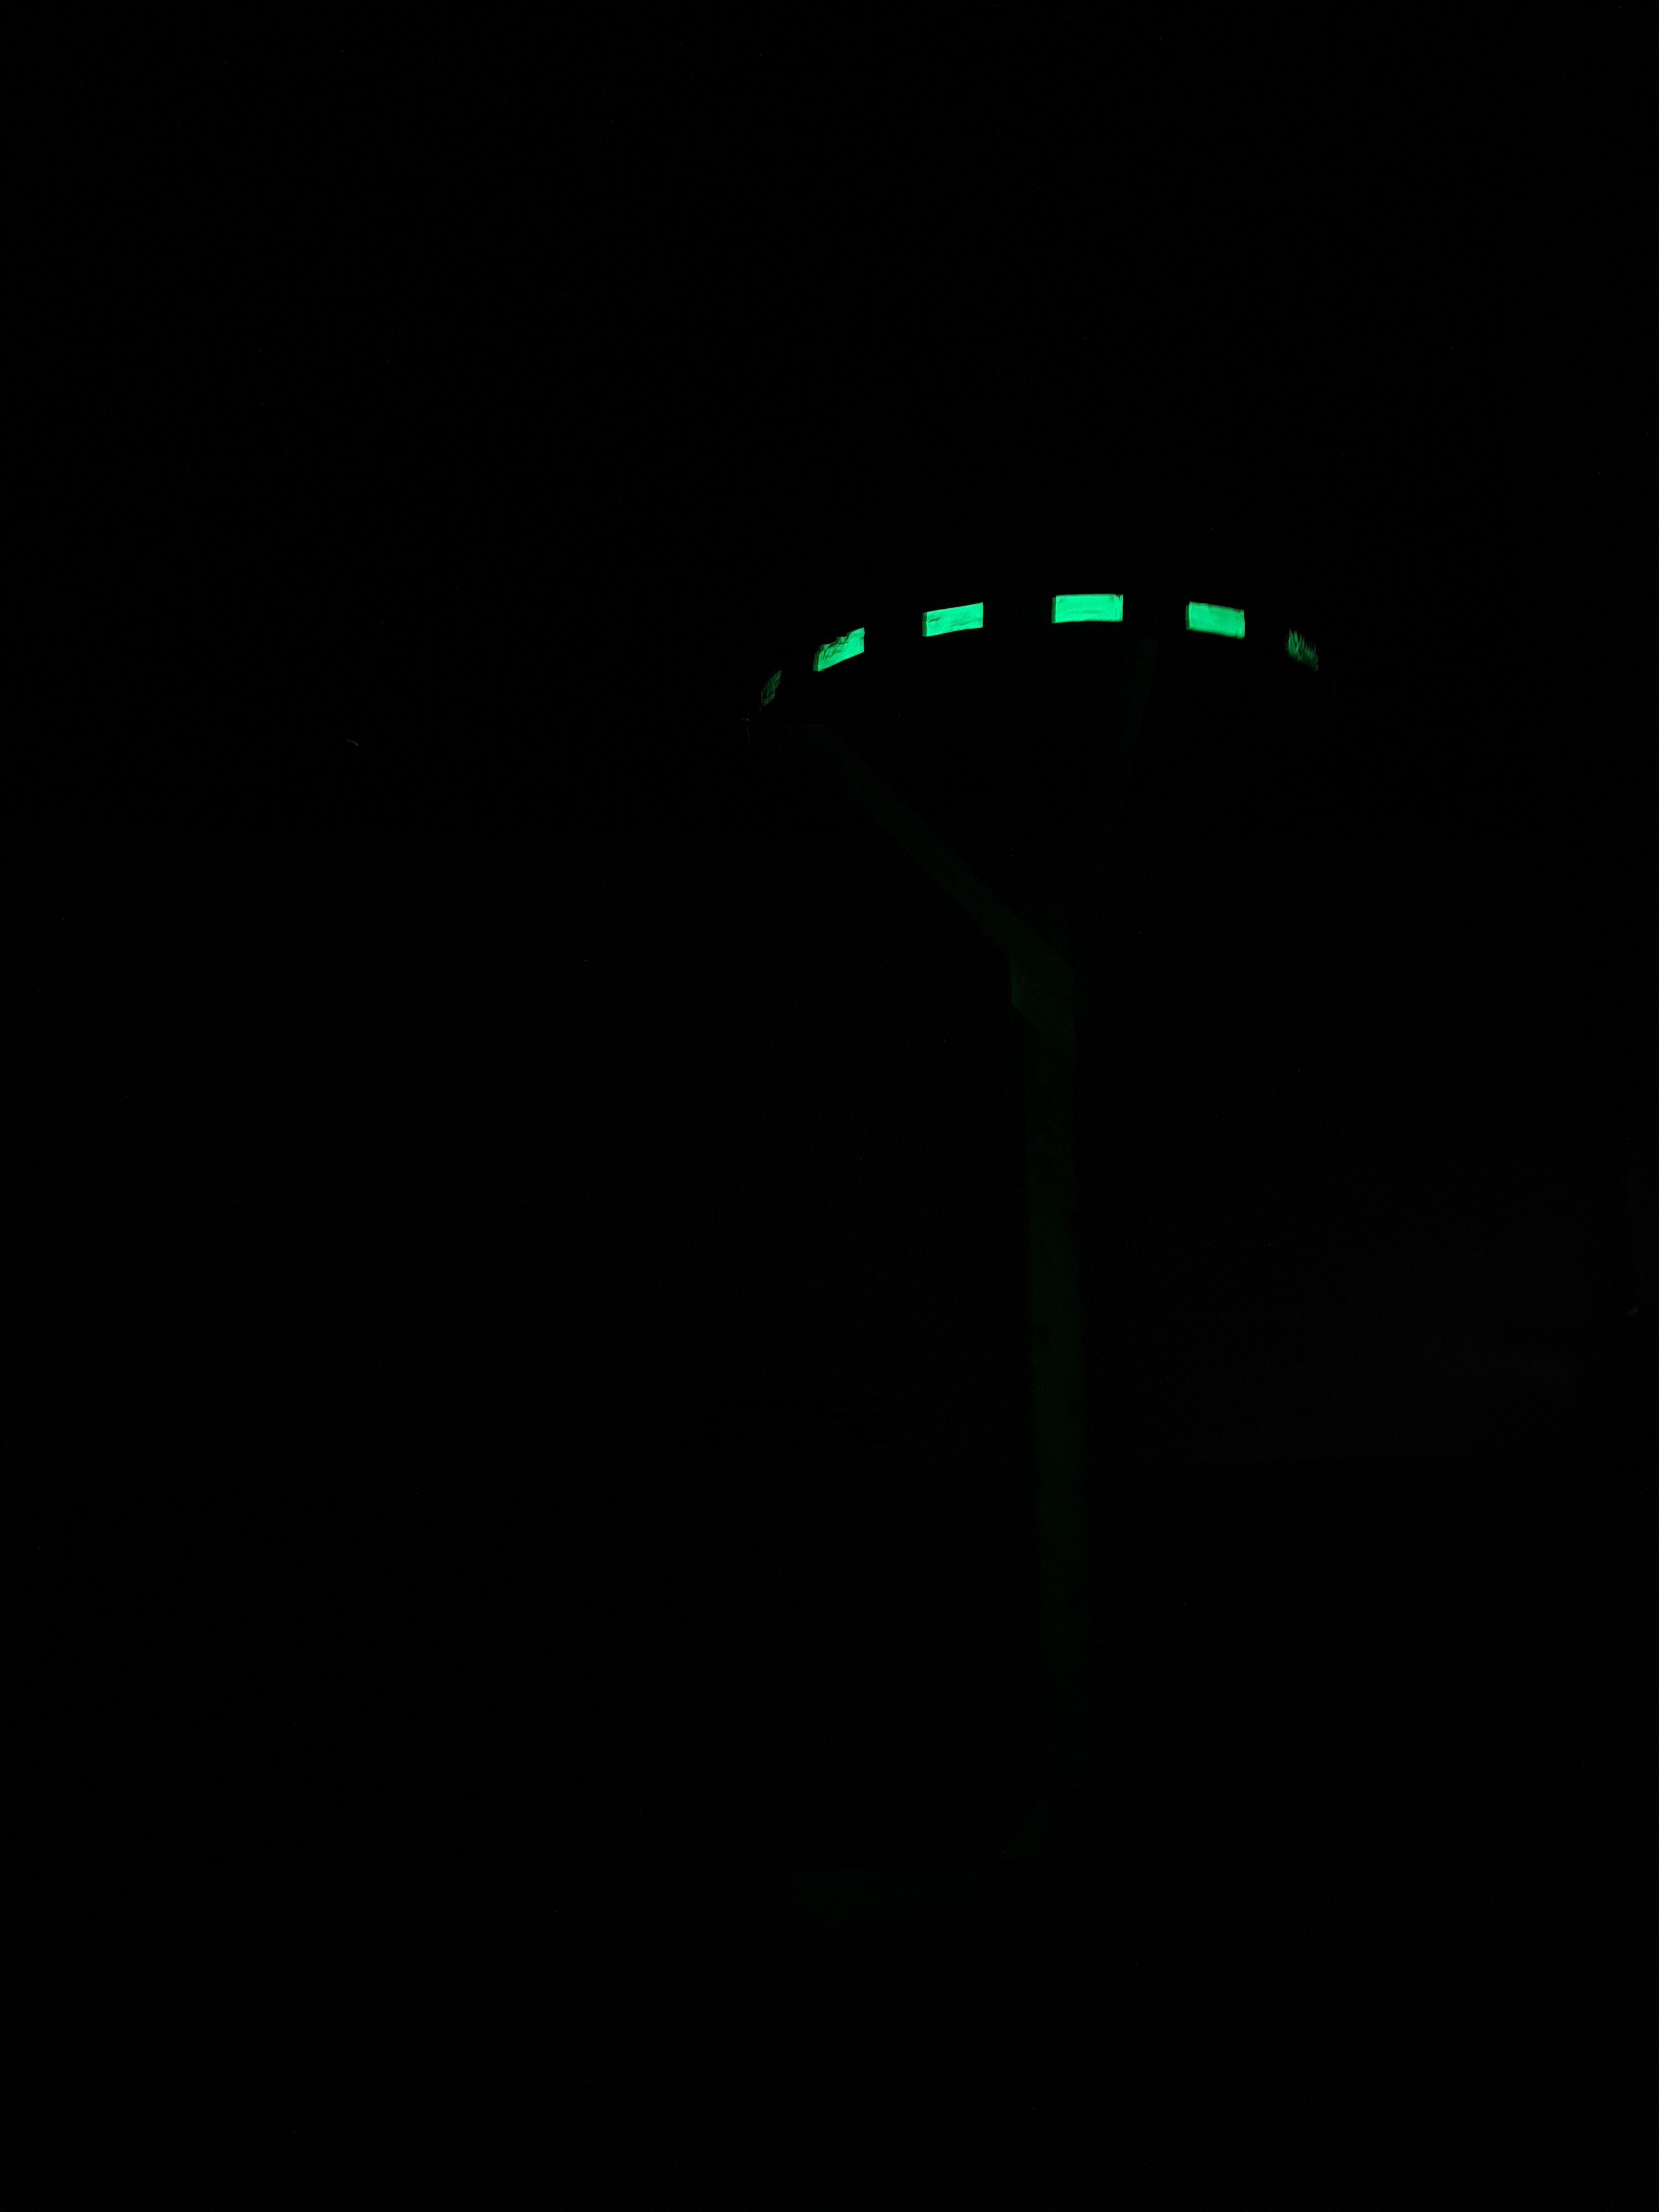hoop: (789, 590, 1328, 681)
